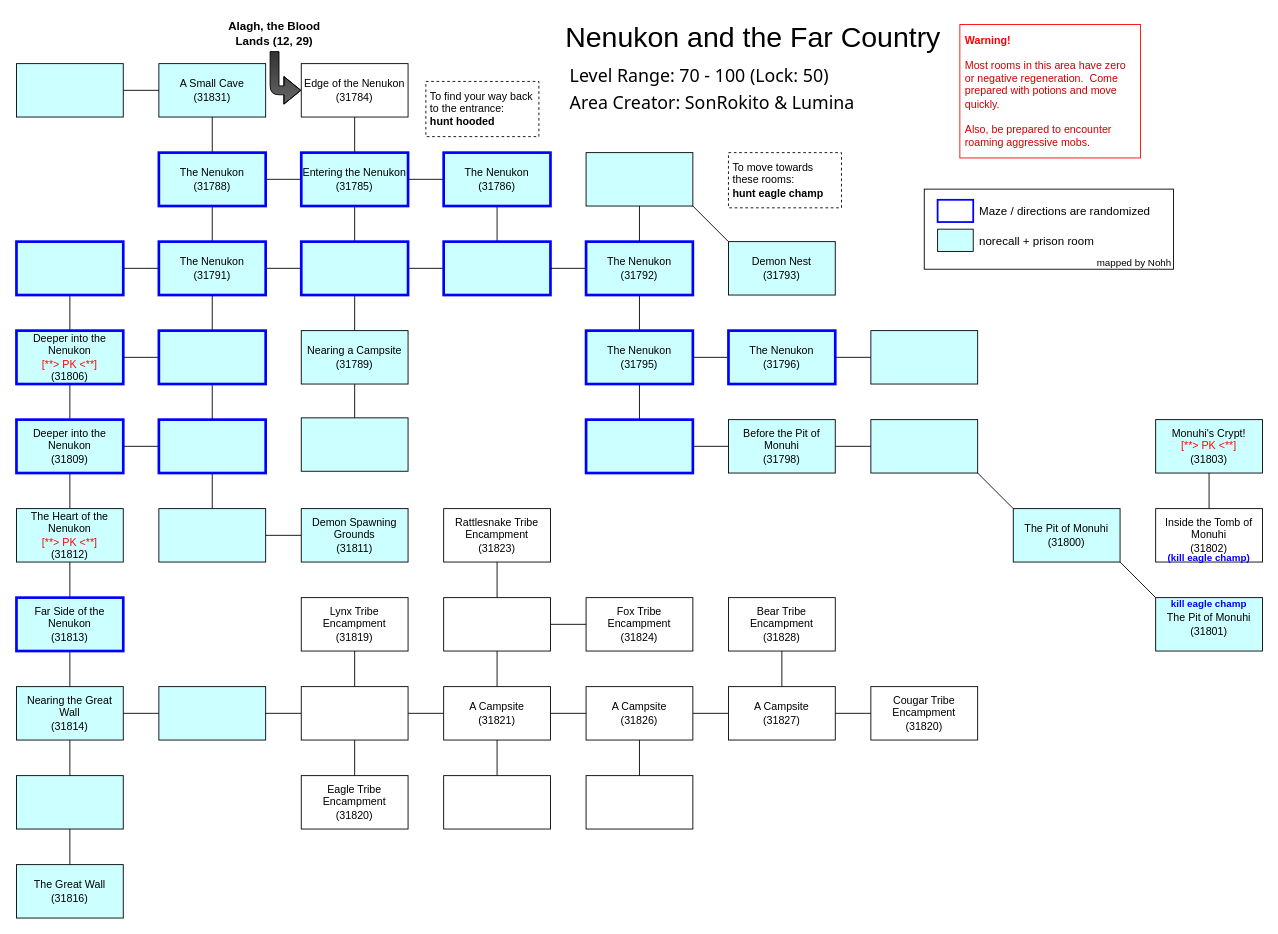
The diagram is 1278 pixels wide and 934 high, and some of its shapes have lost their labels. Here are the shapes that lost their labels. From the top down, the centre of each, then its label:
At [69,90]: "Yota Timo's Lair (31832)".
At [639,179]: "The Oasis (31793)".
At [69,268]: "Deeper into the Nenukon (31805)".
At [354,268]: "The Nenukon (31787)".
At [496,268]: "The Nenukon (31790)".
At [212,357]: "Deeper into the Nenukon (31807)".
At [924,357]: "Yota Timo's Army! (31833)".
At [212,446]: "Deeper into the Nenukon [**> PK <**] (31808)".
At [354,444]: "A Goblin Encampment (31789)".
At [639,446]: "The Nenukon (31797)".
At [924,446]: "The Pit of Monuhi (31799)".
At [212,535]: "Demon Spawning Grounds (31810)".
At [496,624]: "A Campsite (31822)".
At [212,713]: "Nearing a Campsite (31817)".
At [354,713]: "A Campsite (31818)".
At [69,802]: "The Great Wall (31815)".
At [496,802]: "Elk Tribe Encampment (31825)".
At [639,802]: "Mink Tribe Encampment (31829)".
